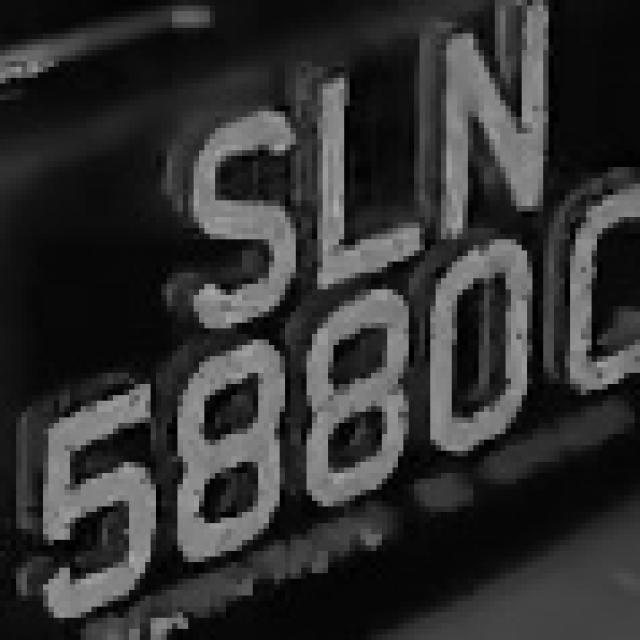0: (414, 234, 538, 456)
5: (27, 373, 167, 618)
8: (172, 328, 296, 596), (291, 272, 414, 528)
C: (554, 172, 640, 412)
L: (296, 61, 419, 284)
N: (425, 11, 554, 234)
S: (167, 95, 301, 334)
